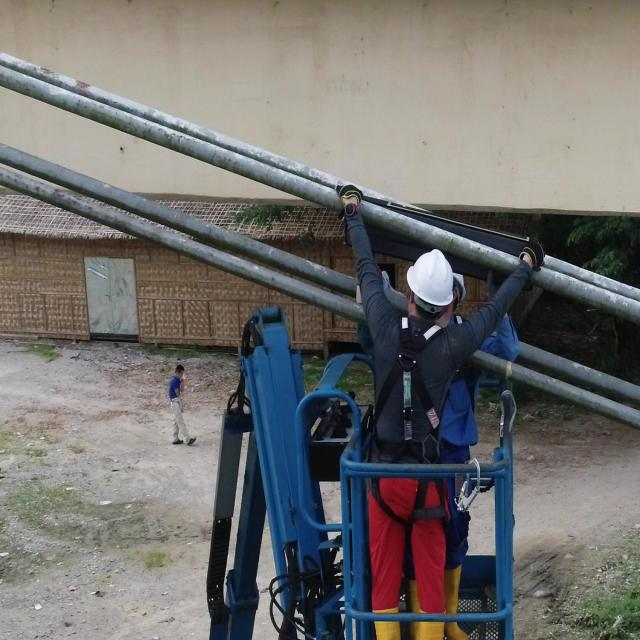corrosion: (75, 80, 92, 94), (36, 66, 54, 78)
